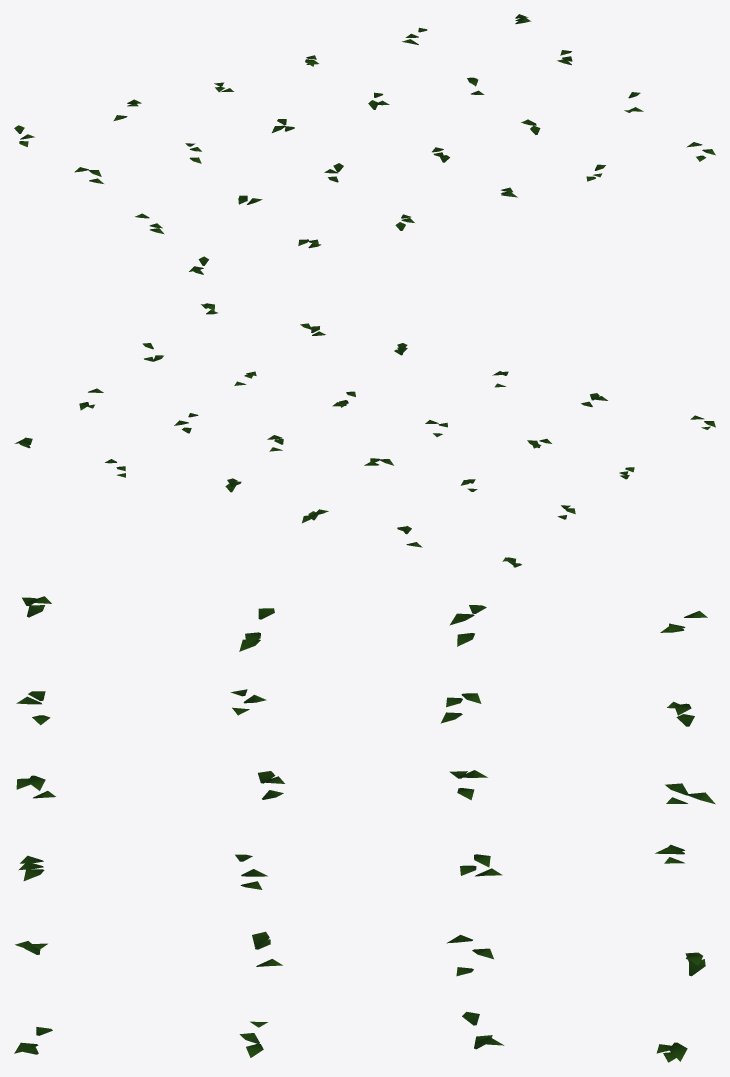
Rendered from fm_pepper_1.glb.
3 views of the same model, one above another, from view 1: azimuth 30°, elevation 25°; view 2: azimuth 150°, elevation 25°; view 3: azimuth 270°, elevation 25° (orthographic). The views are drawn at different scales.
Visible parts, largest first — view 1: fm_pepper_1; view 2: fm_pepper_1; view 3: fm_pepper_1.
Part boxes in pixels (left/top/right/bottom): fm_pepper_1: left=14, top=14, right=715, bottom=274; fm_pepper_1: left=14, top=303, right=715, bottom=567; fm_pepper_1: left=14, top=596, right=715, bottom=1062.
Size of the model in its own units: 3.6 by 0.1384 by 2.38.
